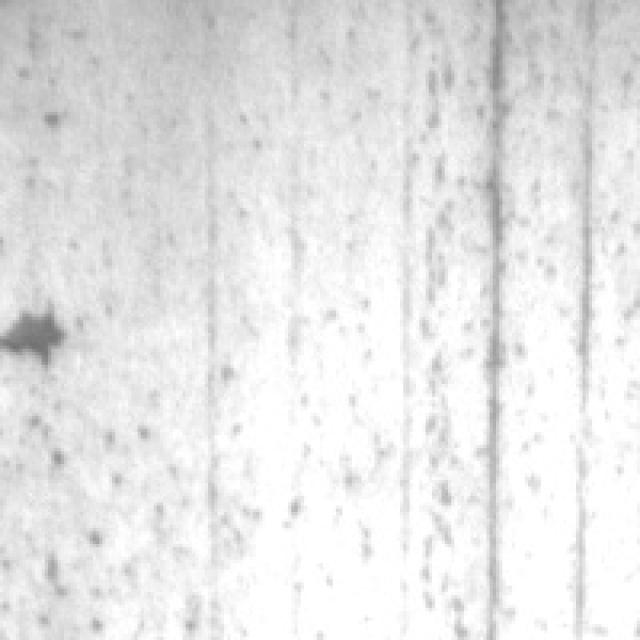inclusion: (3, 291, 80, 368)
pitted_surface: (314, 7, 490, 630), (7, 358, 278, 637)
